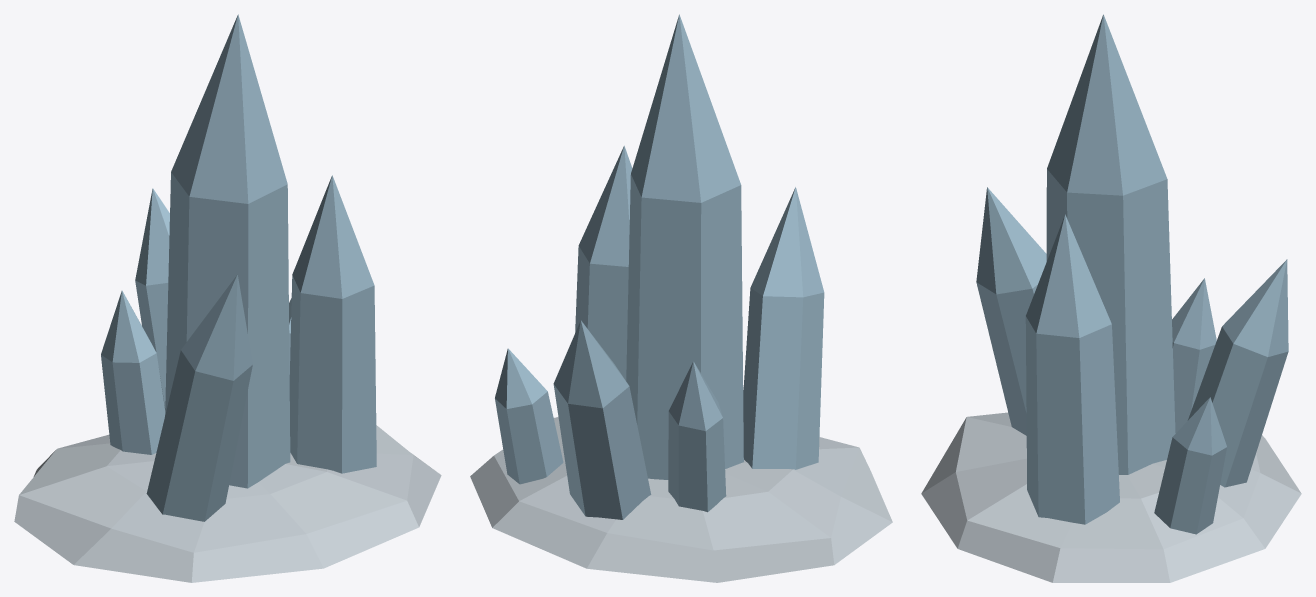
File: material_ice.glb
3 views of the same model, side by side, from view 1: azimuth 30°, elevation 25°; view 2: azimuth 150°, elevation 25°; view 3: azimuth 270°, elevation 25° (orthographic).
Parts seen in each view (by area): view 1: material_ice_ice_vc; view 2: material_ice_ice_vc; view 3: material_ice_ice_vc.
Boxes of the visible parts, <box> form: material_ice_ice_vc: <box>14,14,441,582</box>; material_ice_ice_vc: <box>470,14,892,582</box>; material_ice_ice_vc: <box>921,14,1301,582</box>.
Bounding box in the file's own units: 1.33 × 1.68 × 1.2.
